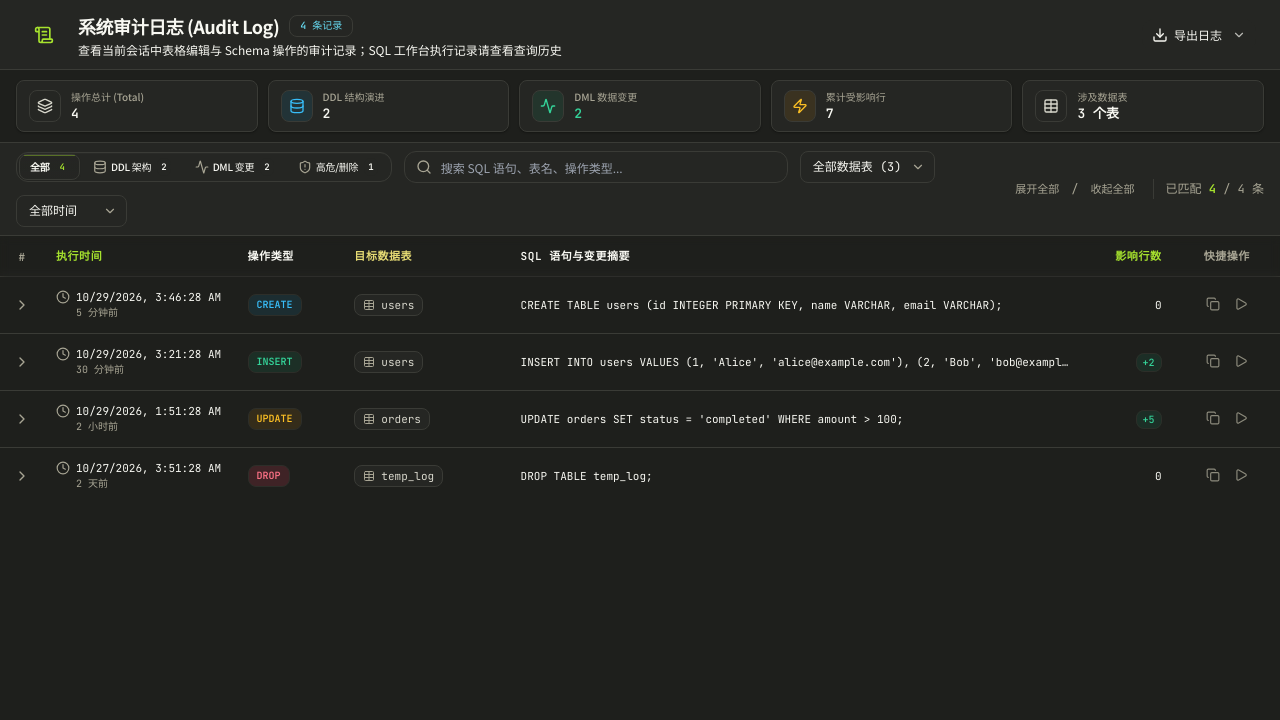
Test: AuditTab Component › filters logs when switching category segmented tabs
Expected: the text "CREATE TABLE users (id INTEGER PRIMARY KEY, name VARCHAR, email VARCHAR);" is shown, [521, 298, 1002, 312]
Expected: the text "UPDATE orders SET status = 'completed' WHERE amount > 100;" is shown, [521, 412, 903, 426]
# Click DDL tab
Click the tab "DDL 架构 2" at point(132, 167), box [82, 154, 182, 180]
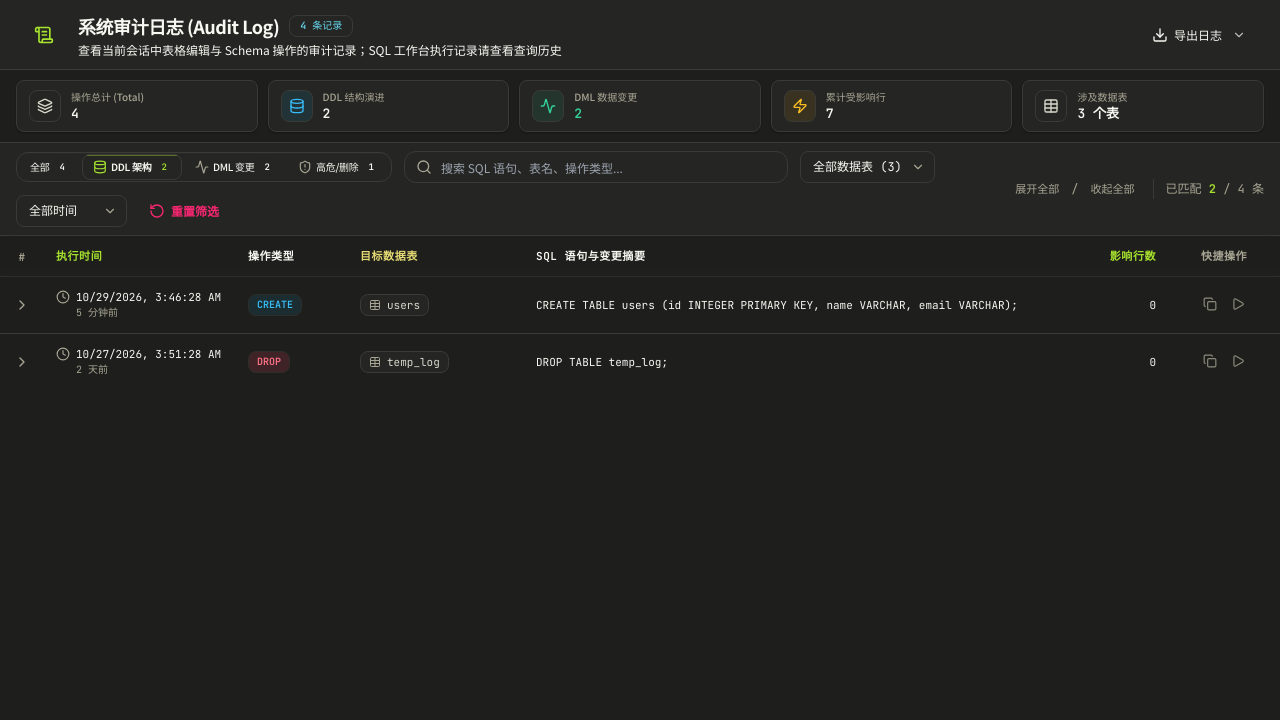
Expected: the text "CREATE TABLE users (id INTEGER PRIMARY KEY, name VARCHAR, email VARCHAR);" is shown, [536, 298, 1018, 312]
Result: the text "UPDATE orders SET status = 'completed' WHERE amount > 100;" is gone
# Click DML tab
Click the tab "DML 变更 2" at point(234, 167), box [184, 154, 285, 180]
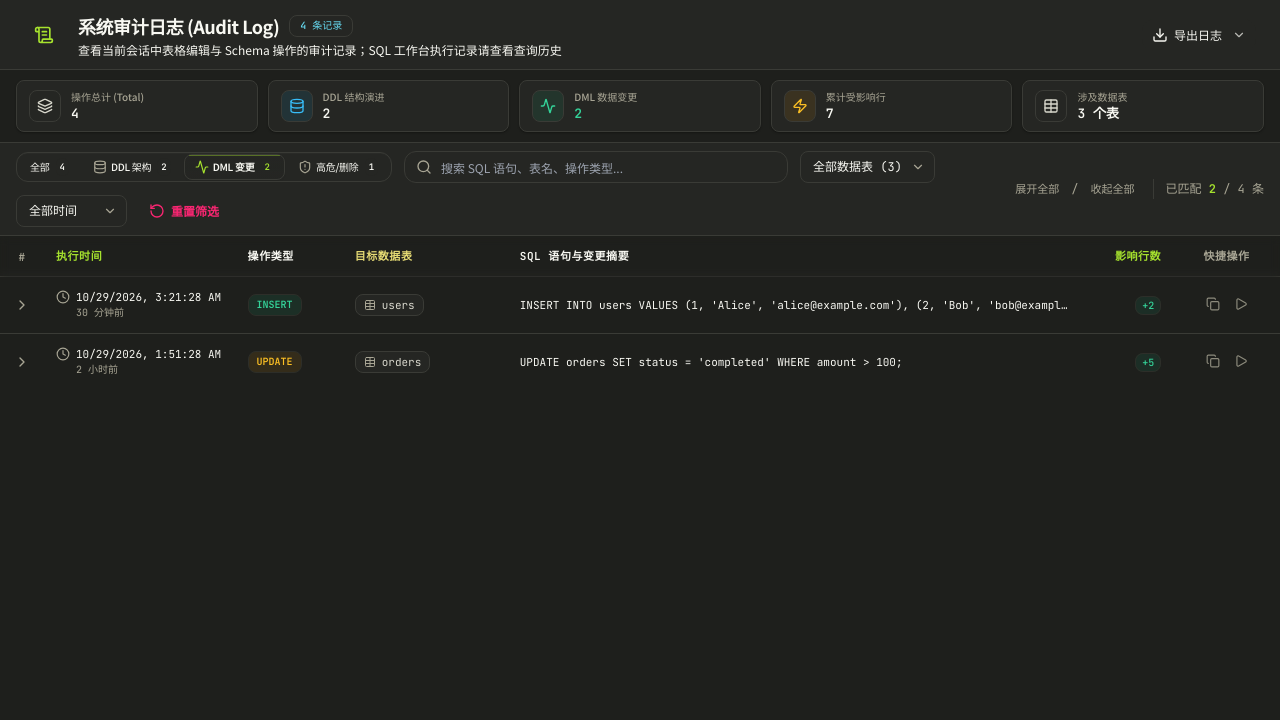
Result: the text "UPDATE orders SET status = 'completed' WHERE amount > 100;" is shown at [520, 355, 902, 369]
Result: the text "DROP TABLE temp_log;" is gone
